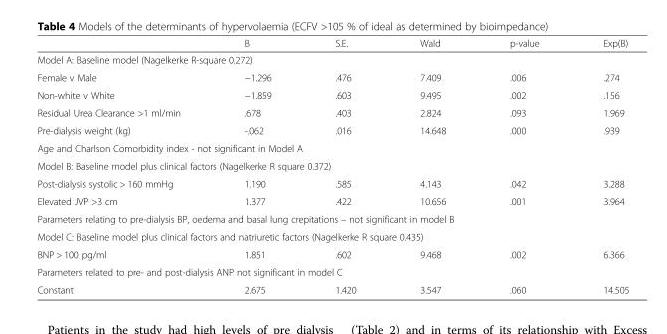table: (36, 37, 628, 295)
table column: (36, 37, 211, 295), (477, 37, 570, 295), (211, 37, 302, 295), (387, 37, 477, 295), (302, 37, 387, 295), (570, 37, 628, 295)
table column header: (36, 37, 628, 51)
table projected row header: (36, 156, 628, 174), (36, 209, 628, 227), (36, 227, 628, 245), (36, 262, 628, 280), (36, 51, 628, 68), (36, 139, 628, 156)
table row: (36, 85, 628, 103), (36, 103, 628, 121), (36, 121, 628, 139), (36, 156, 628, 174), (36, 174, 628, 192), (36, 209, 628, 227), (36, 227, 628, 245), (36, 262, 628, 280), (36, 51, 628, 68), (36, 68, 628, 85), (36, 139, 628, 156), (36, 192, 628, 209), (36, 245, 628, 262), (36, 280, 628, 295), (36, 37, 628, 51)
